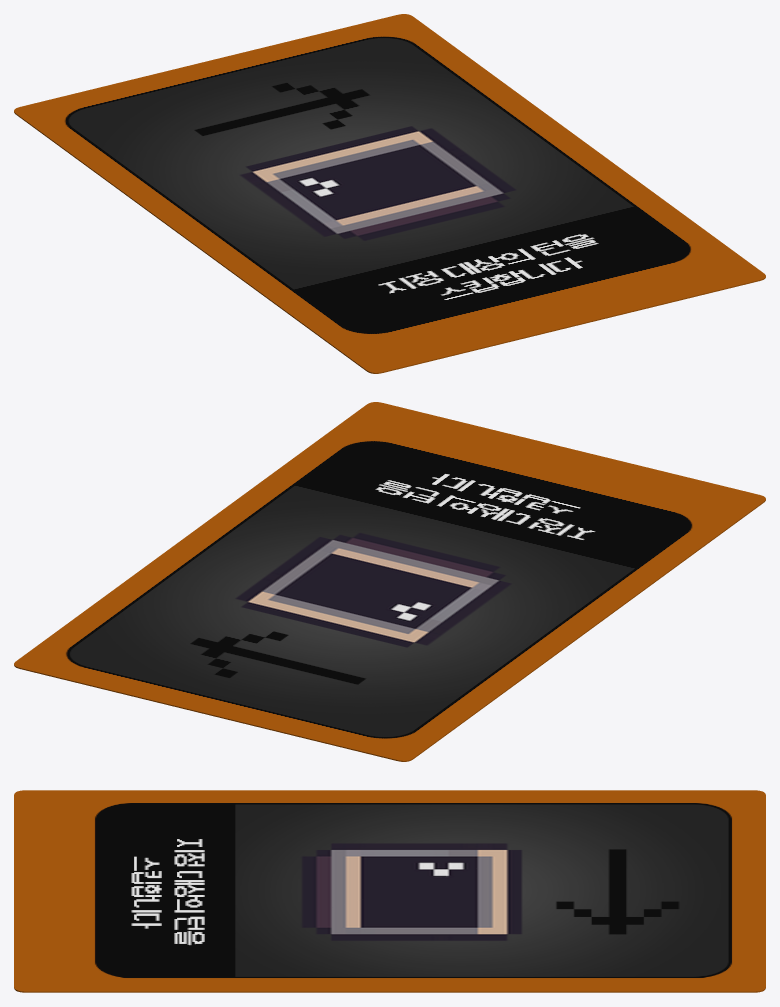
File: TurnSkip Card.fbx
The picture shows the model from 3 angles, top to bottom: view 1: azimuth 30°, elevation 25°; view 2: azimuth 150°, elevation 25°; view 3: azimuth 270°, elevation 25°; orthographic projection. The views are drawn at different scales.
Parts seen in each view (by area): view 1: Box001; view 2: Box001; view 3: Box001.
Boxes of the visible parts, x1=… form: Box001: x1=14, y1=14, x2=765, y2=373; Box001: x1=14, y1=402, x2=765, y2=761; Box001: x1=14, y1=790, x2=765, y2=992.
Size of the model in its own units: 74.8 by 0.1969 by 118.
